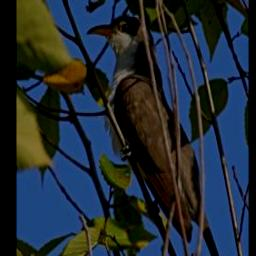Cuckoo: (58, 14, 202, 243)
